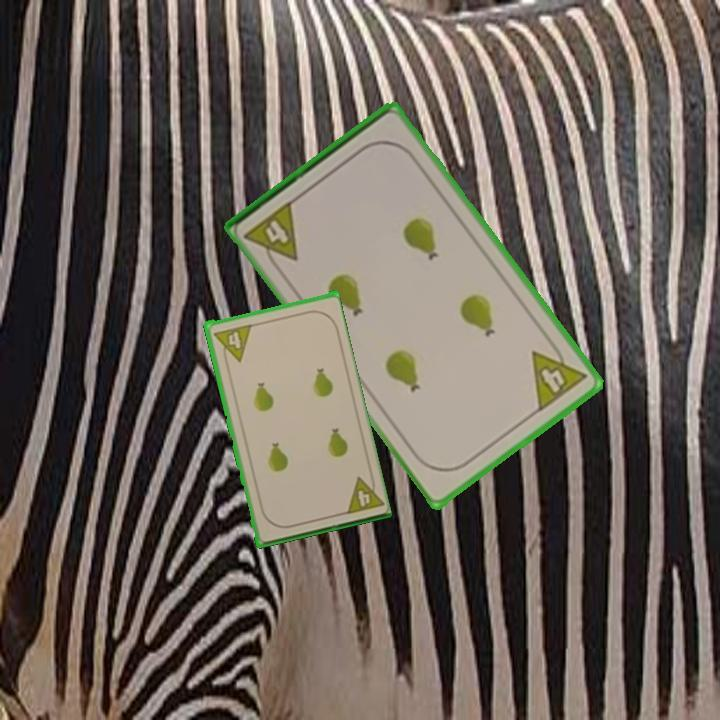4p: (528, 335, 590, 415), (241, 197, 302, 274), (340, 470, 385, 517), (209, 321, 254, 366)
